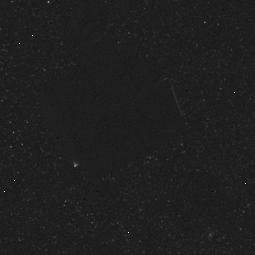cheops: (51, 59, 174, 172)
